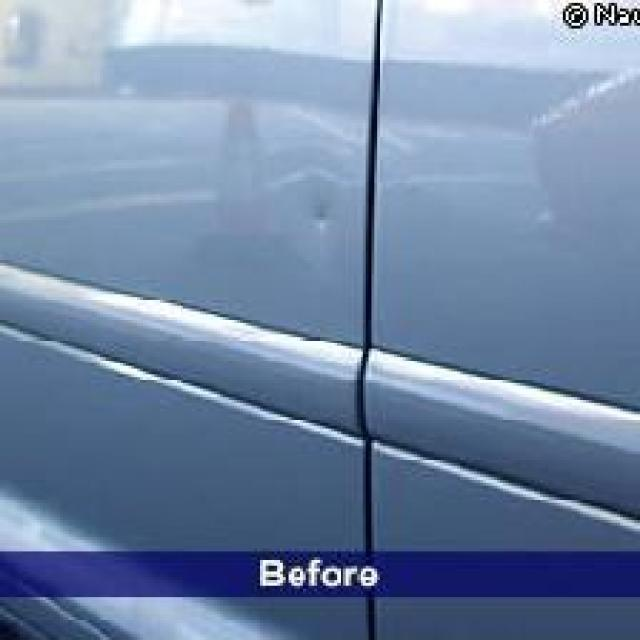damaged: (306, 197, 340, 234)
